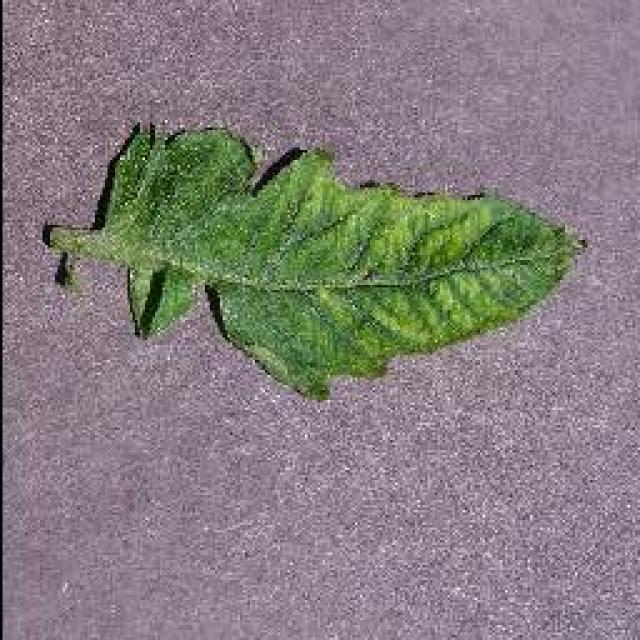Tomato___Tomato_mosaic_virus: (42, 125, 582, 398)
